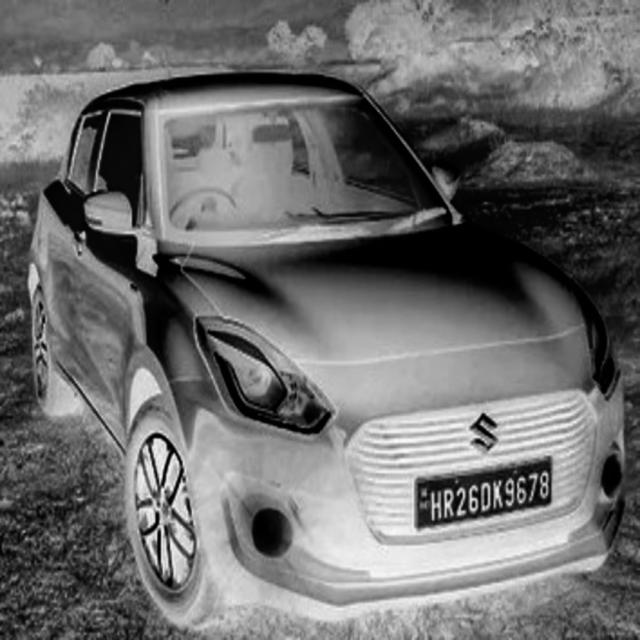2: (456, 484, 469, 520)
6: (468, 483, 480, 515), (518, 474, 528, 506)
7: (528, 471, 539, 504)
8: (540, 471, 550, 499)
9: (504, 476, 516, 506)
D: (479, 478, 493, 513)
H: (430, 488, 443, 522)
IND: (417, 485, 430, 517)
Indian_registered: (415, 459, 551, 528)
K: (492, 477, 506, 512)
R: (442, 485, 455, 521)
